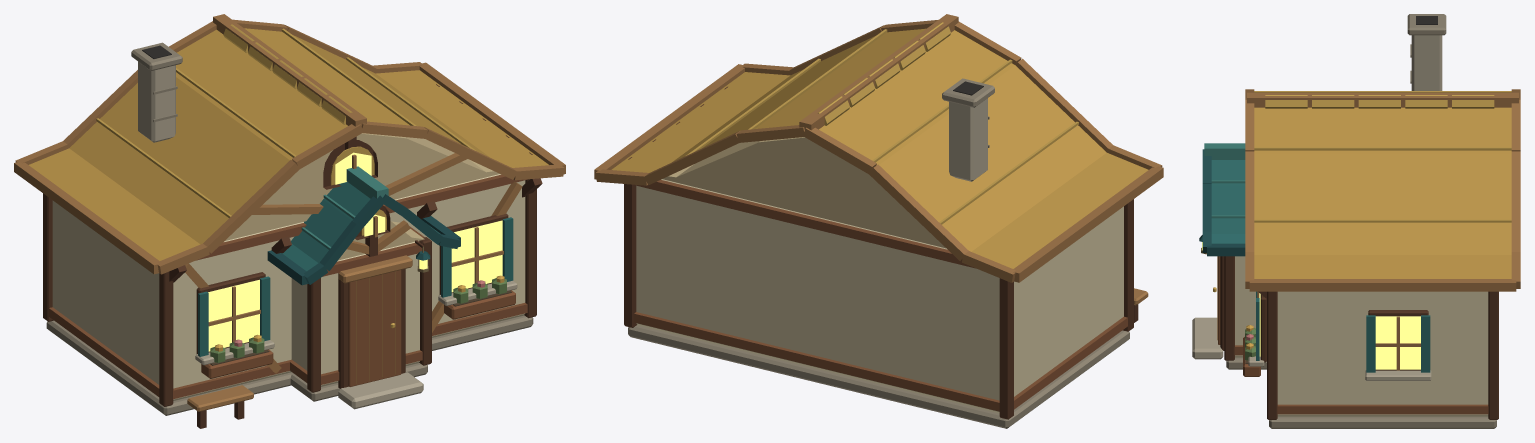
Rendered from house-c.glb.
3 views of the same model, side by side, from view 1: azimuth 30°, elevation 25°; view 2: azimuth 150°, elevation 25°; view 3: azimuth 270°, elevation 25° (orthographic). The views are drawn at different scales.
Visible parts, largest first — view 1: house-c; view 2: house-c; view 3: house-c.
Boxes of the visible parts, x1,y1,x2,y2 form: house-c: [14, 14, 565, 428]; house-c: [594, 14, 1163, 428]; house-c: [1192, 14, 1520, 428].
Bounding box in the file's own units: 8.55 × 5.69 × 6.2.
